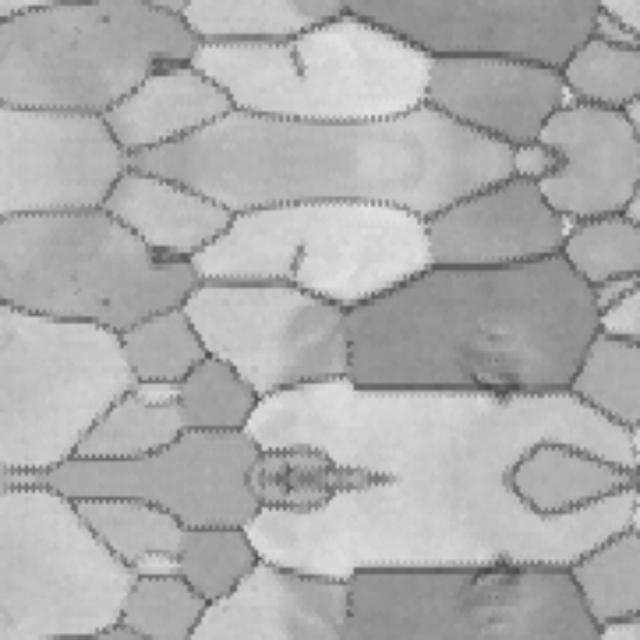good_void: (466, 356, 541, 408), (466, 552, 541, 604), (285, 240, 308, 277), (285, 46, 308, 83), (101, 300, 117, 310), (101, 14, 117, 24)
